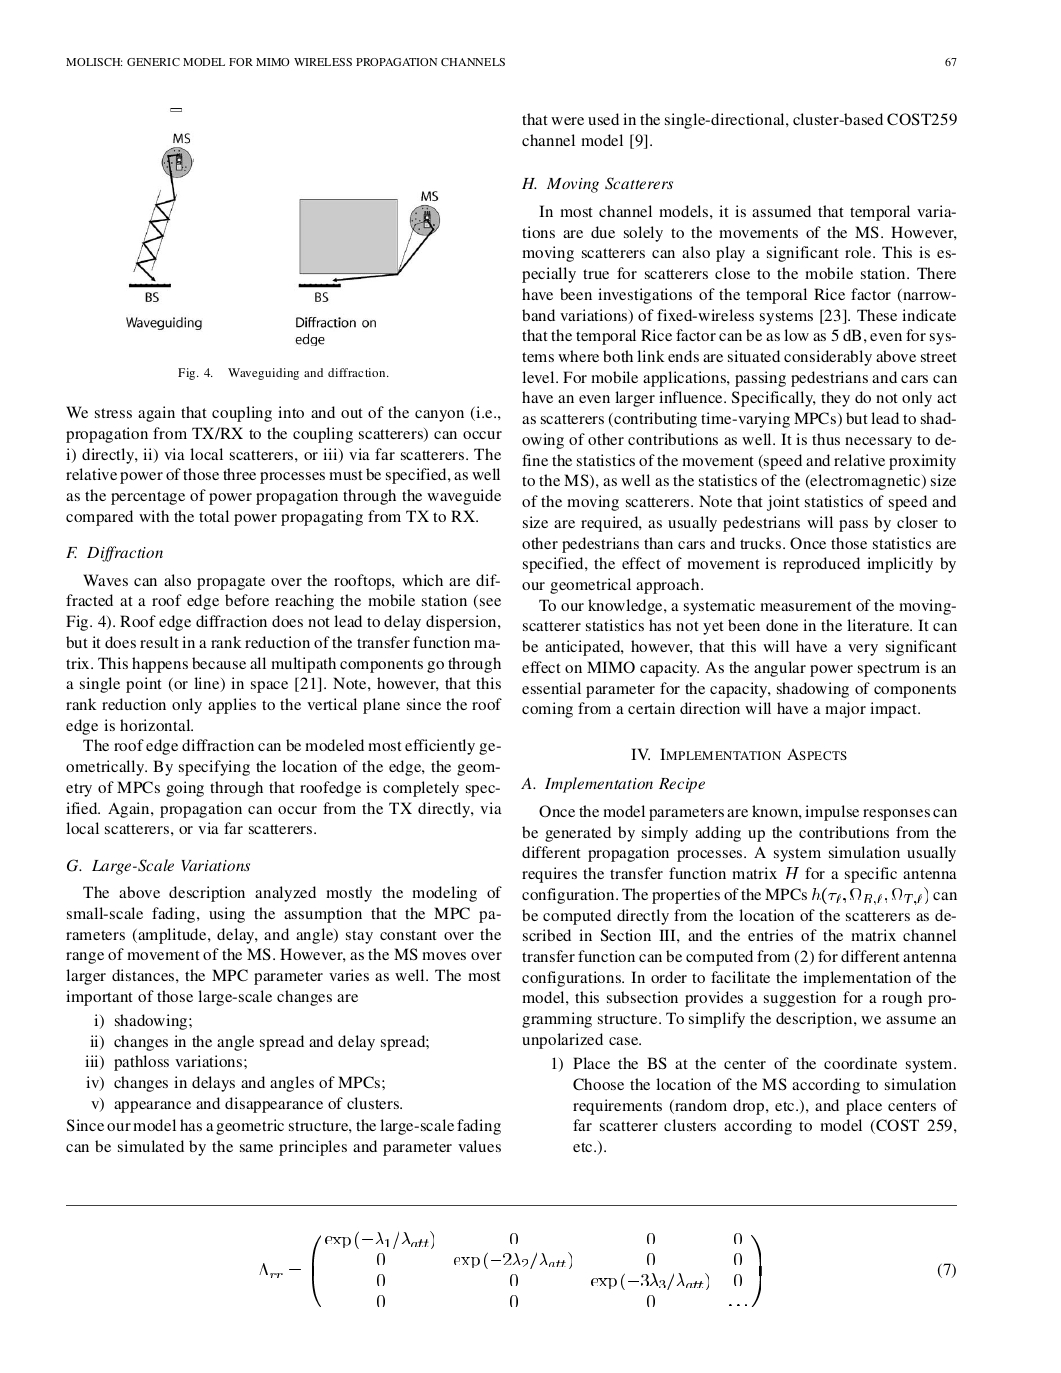figure: (298, 191, 439, 301), (128, 108, 193, 301)
formula: (259, 1230, 955, 1307)
